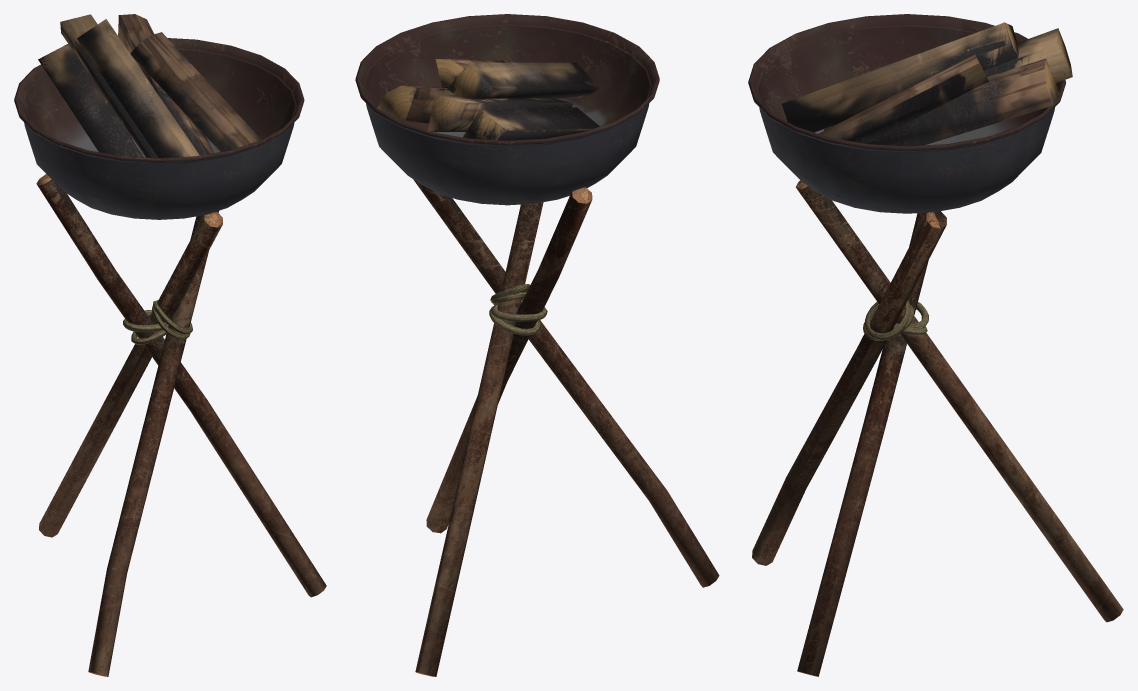
Rendered from SM_Brazier.fbx.
The picture shows the model from 3 angles, left to right: view 1: azimuth 30°, elevation 25°; view 2: azimuth 150°, elevation 25°; view 3: azimuth 270°, elevation 25°; orthographic projection. The views are drawn at different scales.
Visible parts, largest first — view 1: SM_Brazier; view 2: SM_Brazier; view 3: SM_Brazier.
Part boxes in pixels (box(x1,y1,x2,y2)): SM_Brazier: box(14, 14, 326, 676); SM_Brazier: box(355, 14, 719, 676); SM_Brazier: box(748, 14, 1123, 676).
Bounding box in the file's own units: 66.84 × 76.15 × 135.
Materials: 1 (1 with a texture image).
